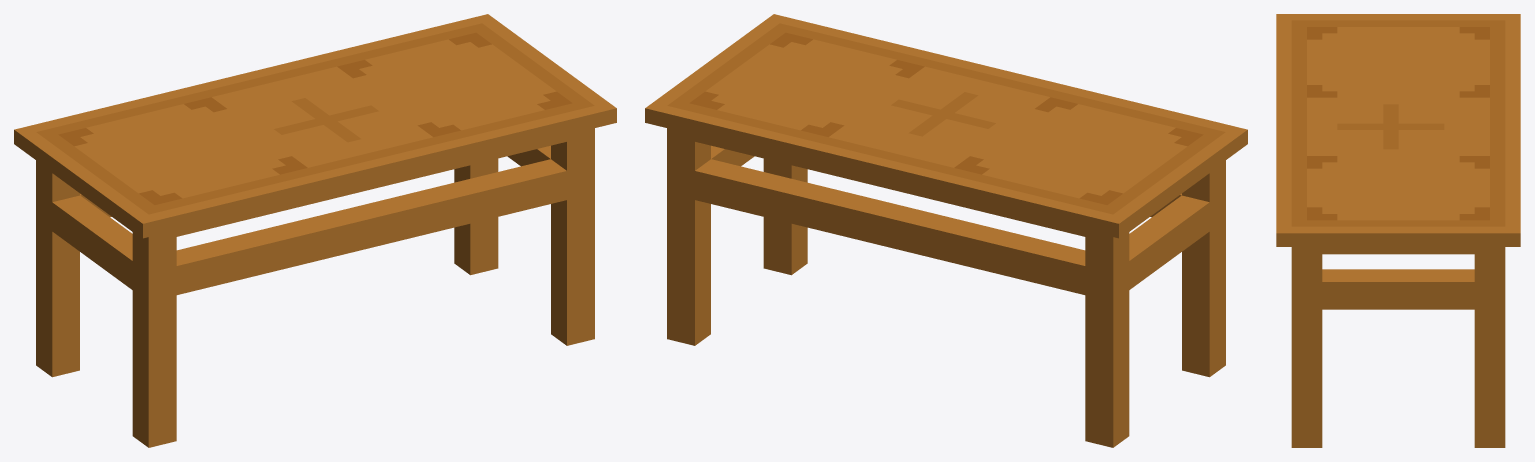
The model's file is Combining_tabble_Kaz.obj.
3 renders of one model, left to right at view 1: azimuth 30°, elevation 25°; view 2: azimuth 150°, elevation 25°; view 3: azimuth 270°, elevation 25°, orthographic. The views are drawn at different scales.
Size of the model in its own units: 3.4 by 1.6 by 1.6.
